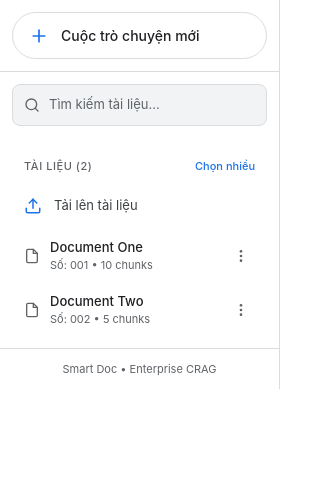
Test case: Sidebar › toggles multi-select mode and allows selecting all documents
Click "Chọn nhiều"
Click the button "Chọn nhiều".
click(225, 166)  # box left=195, top=158, right=255, bottom=174
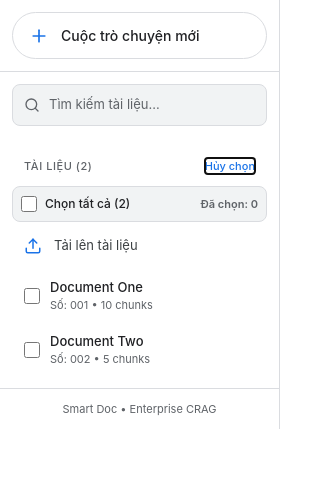
Result: the button "Hủy chọn" is shown at left=205, top=158, right=255, bottom=174
Result: the text "Chọn tất cả (2)" is shown at left=21, top=195, right=130, bottom=213
Click "Chọn tất cả"
Click the checkbox named "Chọn tất cả tài liệu".
click(29, 204)  # box left=21, top=196, right=37, bottom=212
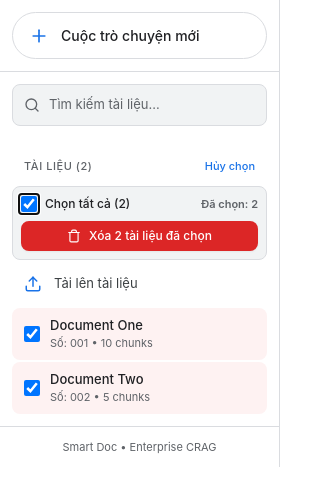
Result: the text "Đã chọn: 2" is shown at left=201, top=196, right=258, bottom=212
Result: the button "Xóa 2 tài liệu đã chọn" is shown at left=21, top=221, right=258, bottom=251
